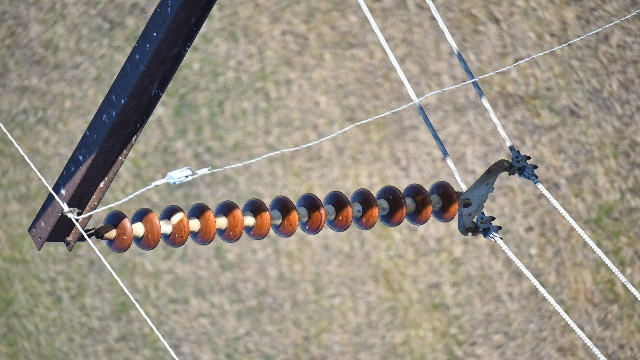insulator_unspecified: (104, 180, 458, 254)
pollution_flashover_local: (168, 210, 184, 224)
